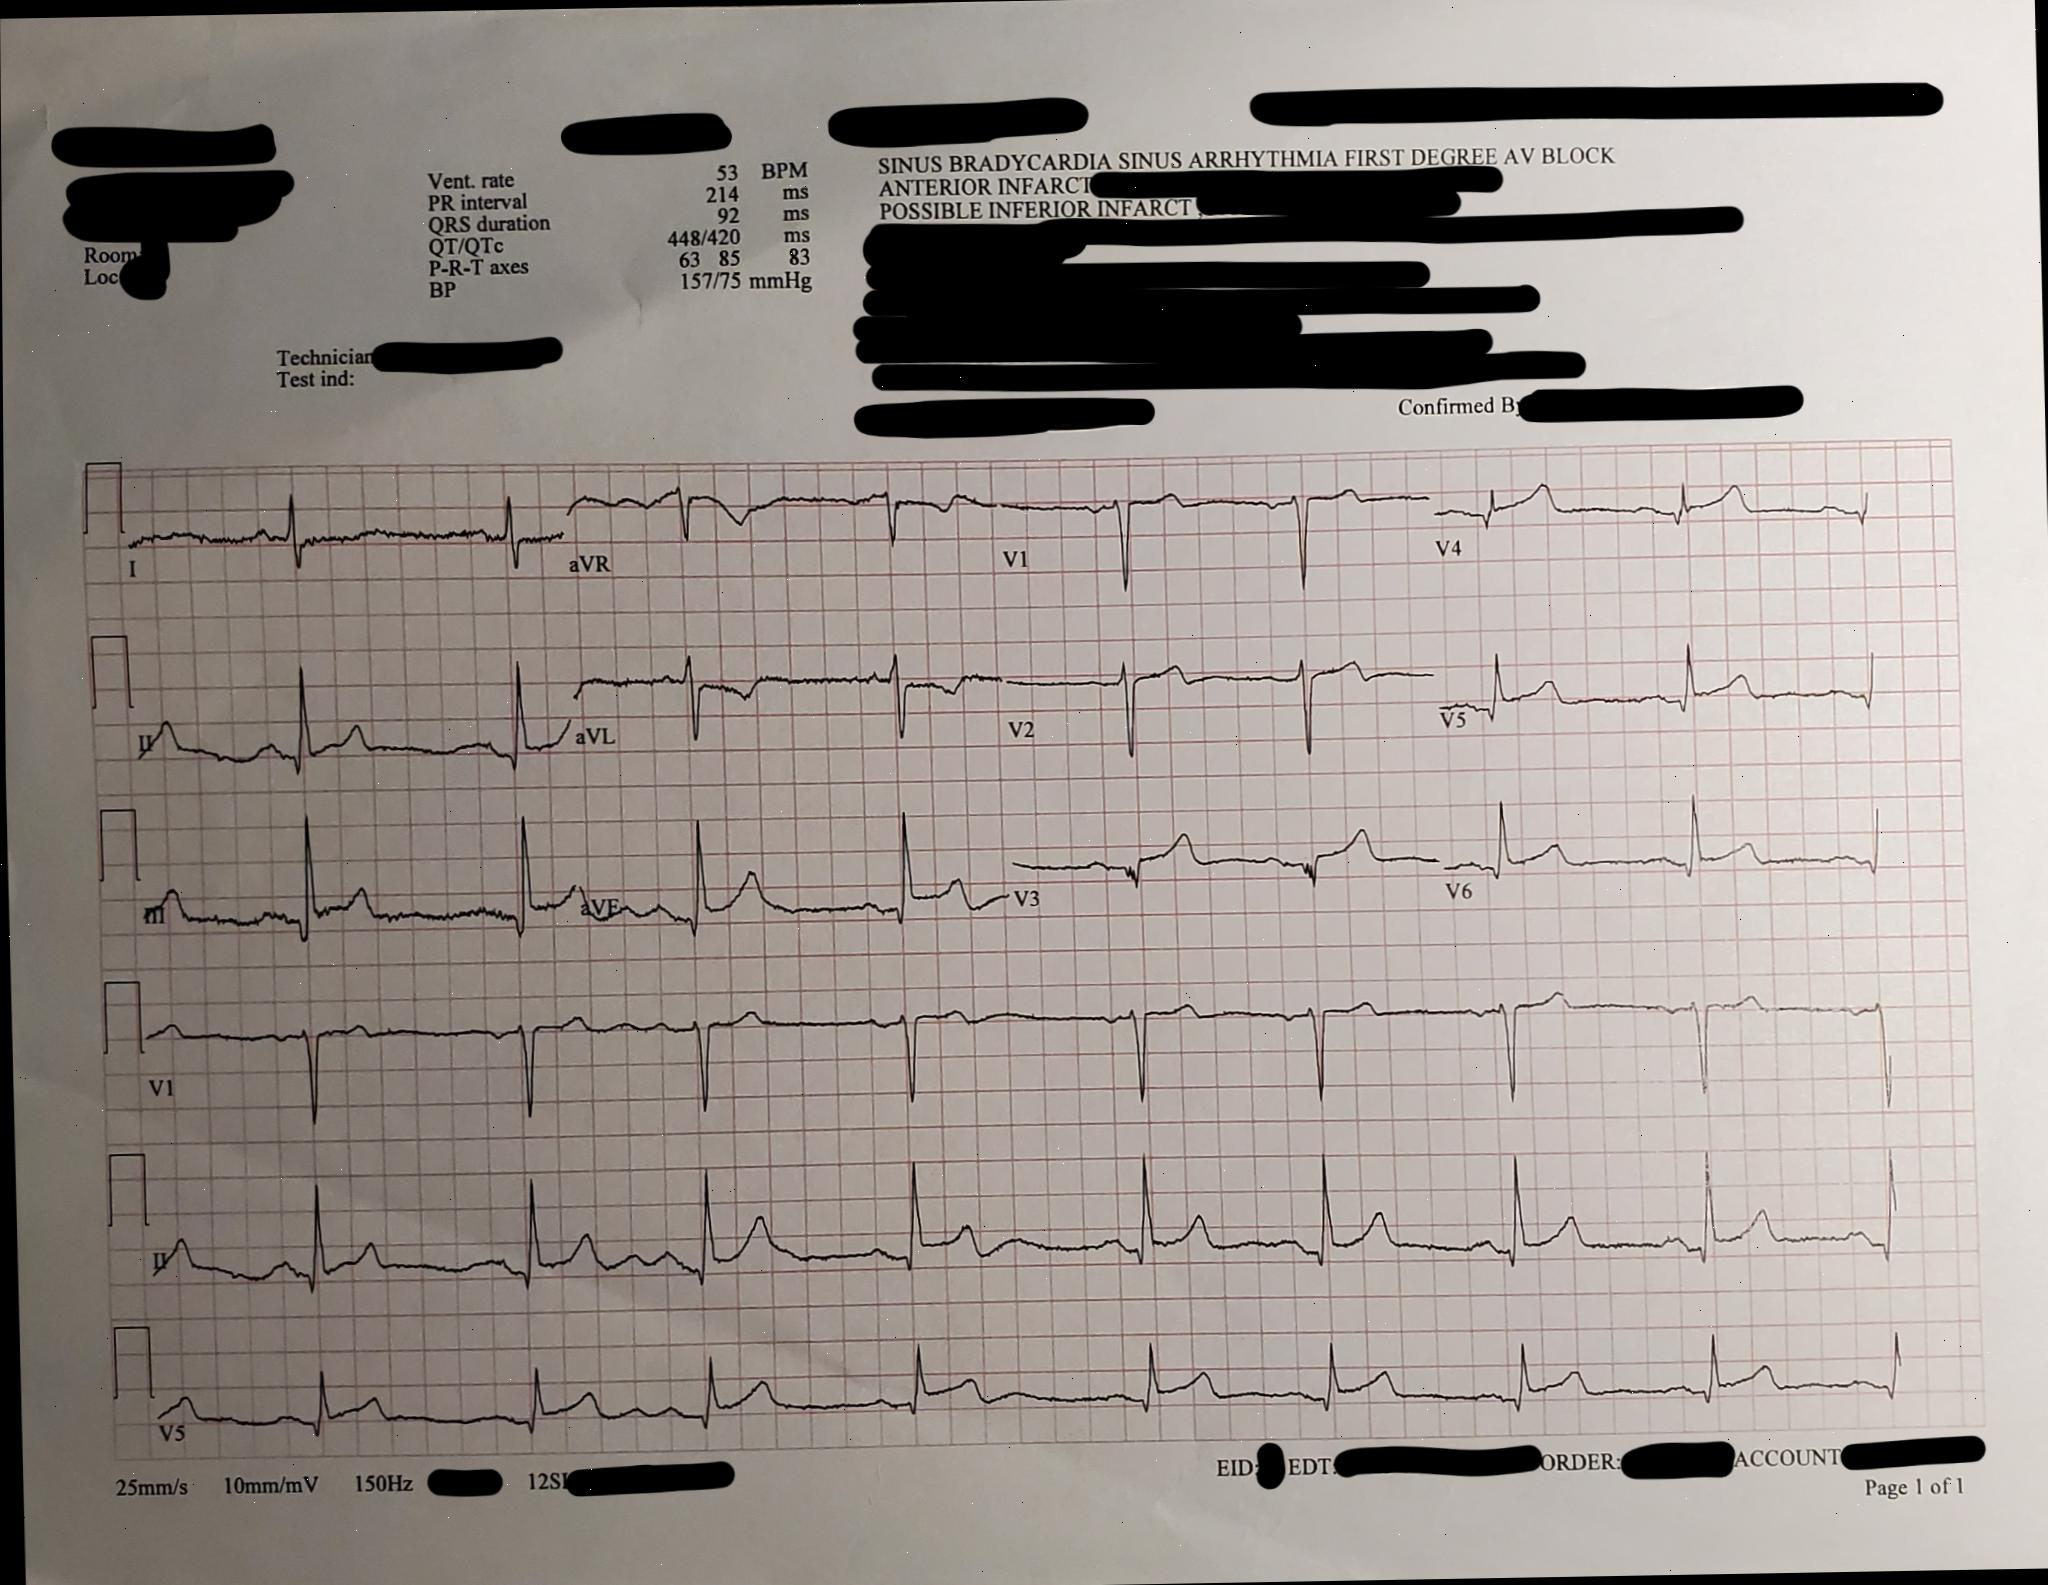Lead_I: (103, 451, 561, 601)
Lead_II: (114, 626, 570, 804)
Lead_III: (127, 809, 576, 973)
Lead_II_ext: (142, 1124, 1931, 1318)
Lead_V1: (972, 444, 1423, 618), (131, 982, 582, 1152)
Lead_V2: (977, 612, 1429, 784)
Lead_V3: (999, 781, 1441, 940)
Lead_V4: (1422, 440, 1894, 606)
Lead_V5: (1425, 602, 1899, 778)
Lead_V6: (1430, 769, 1902, 940)
Lead_aVF: (564, 789, 1005, 976)
Lead_aVL: (563, 617, 976, 806)
Lead_aVR: (558, 453, 973, 600)
